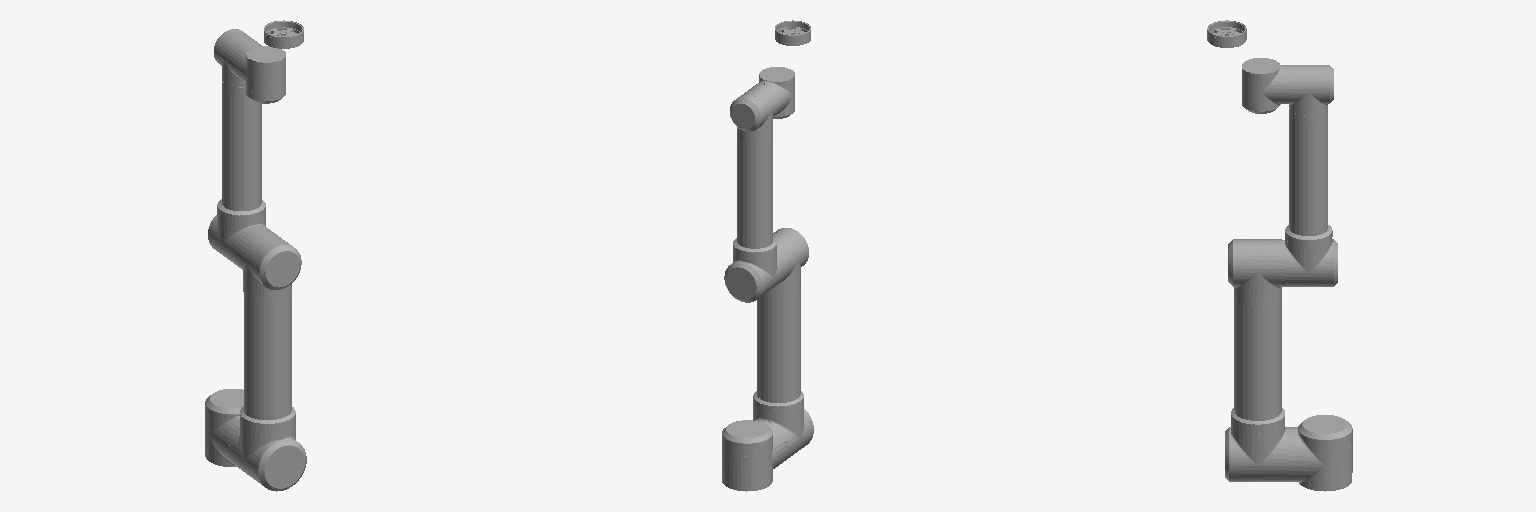
URDF robot description (utra6_1000):
<?xml version="1.0" encoding="utf-8"?>
<!-- =================================================================================== -->
<!-- |    This document was autogenerated by xacro from ../urdf/utra6_1000_robot.urdf.xacro | -->
<!-- |    EDITING THIS FILE BY HAND IS NOT RECOMMENDED                                 | -->
<!-- =================================================================================== -->
<robot name="utra6_1000">
  <!--
    Author: [author] <[email redacted]> <[email redacted]>
    Contributers:
  -->
  <link name="world"/>
  <joint name="world_joint" type="fixed">
    <parent link="world"/>
    <child link="base_link"/>
    <origin rpy="0 0 0" xyz="0 0 0"/>
  </joint>
  <material name="Black">
    <color rgba="0.0 0.0 0.0 1.0"/>
  </material>
  <material name="Red">
    <color rgba="0.8 0.0 0.0 1.0"/>
  </material>
  <material name="White">
    <color rgba="1.0 1.0 1.0 1.0"/>
  </material>
  <material name="Silver">
    <color rgba="0.7 0.7 0.7 1.0"/>
  </material>
  <link name="base_link">
    <inertial>
      <origin rpy="0 0 0" xyz="0 0 0"/>
      <mass value="1e-05"/>
      <inertia ixx="0" ixy="0" ixz="0" iyy="0" iyz="0" izz="0"/>
    </inertial>
    <visual>
      <origin rpy="0 0 0" xyz="0 0 0"/>
      <geometry>
        <mesh filename="package://utra_description/meshes/utra6_1000/visual/base.STL"/>
      </geometry>
      <material name="Silver"/>
    </visual>
    <collision>
      <origin rpy="0 0 0" xyz="0 0 0"/>
      <geometry>
        <mesh filename="package://utra_description/meshes/utra6_1000/visual/base.STL"/>
      </geometry>
    </collision>
  </link>
  <joint name="joint1" type="revolute">
    <origin rpy="0 0 0" xyz="0 0 0"/>
    <parent link="base_link"/>
    <child link="link_1"/>
    <axis xyz="0 0 1"/>
    <limit effort="0" lower="-6.28318530718" upper="6.28318530718" velocity="3.14"/>
    <dynamics damping="0" friction="0"/>
  </joint>
  <link name="link_1">
    <inertial>
      <origin rpy="0 0 0" xyz="0 0 0"/>
      <mass value="1e-05"/>
      <inertia ixx="0" ixy="0" ixz="0" iyy="0" iyz="0" izz="0"/>
    </inertial>
    <visual>
      <origin rpy="0 0 0" xyz="0 0 0"/>
      <geometry>
        <mesh filename="package://utra_description/meshes/utra6_1000/visual/link1.STL"/>
      </geometry>
      <material name="Silver"/>
    </visual>
    <collision>
      <origin rpy="0 0 0" xyz="0 0 0"/>
      <geometry>
        <mesh filename="package://utra_description/meshes/utra6_1000/visual/link1.STL"/>
      </geometry>
    </collision>
  </link>
  <joint name="joint2" type="revolute">
    <origin rpy="0 0 0" xyz="0 0 0.1175"/>
    <parent link="link_1"/>
    <child link="link_2"/>
    <axis xyz="0 -1 0"/>
    <limit effort="0" lower="-6.28318530718" upper="6.28318530718" velocity="3.14"/>
    <dynamics damping="0" friction="0"/>
  </joint>
  <link name="link_2">
    <inertial>
      <origin rpy="0 0 0" xyz="0 0 0"/>
      <mass value="1e-05"/>
      <inertia ixx="0" ixy="0" ixz="0" iyy="0" iyz="0" izz="0"/>
    </inertial>
    <visual>
      <origin rpy="0 0 0" xyz="0 0 0"/>
      <geometry>
        <mesh filename="package://utra_description/meshes/utra6_1000/visual/link2.STL"/>
      </geometry>
      <material name="Silver"/>
    </visual>
    <collision>
      <origin rpy="0 0 0" xyz="0 0 0"/>
      <geometry>
        <mesh filename="package://utra_description/meshes/utra6_1000/visual/link2.STL"/>
      </geometry>
    </collision>
  </link>
  <joint name="joint3" type="revolute">
    <origin rpy="0 0 0" xyz="0 0 0.463"/>
    <parent link="link_2"/>
    <child link="link_3"/>
    <axis xyz="0 1 0"/>
    <limit effort="0" lower="-6.28318530718" upper="6.28318530718" velocity="3.14"/>
    <dynamics damping="0" friction="0"/>
  </joint>
  <link name="link_3">
    <inertial>
      <origin rpy="0 0 0" xyz="0 0 0"/>
      <mass value="1e-05"/>
      <inertia ixx="0" ixy="0" ixz="0" iyy="0" iyz="0" izz="0"/>
    </inertial>
    <visual>
      <origin rpy="0 0 0" xyz="0 0 0"/>
      <geometry>
        <mesh filename="package://utra_description/meshes/utra6_1000/visual/link3.STL"/>
      </geometry>
      <material name="Silver"/>
    </visual>
    <collision>
      <origin rpy="0 0 0" xyz="0 0 0"/>
      <geometry>
        <mesh filename="package://utra_description/meshes/utra6_1000/visual/link3.STL"/>
      </geometry>
    </collision>
  </link>
  <joint name="joint4" type="revolute">
    <origin rpy="0 0 0" xyz="0 0 0.4325"/>
    <parent link="link_3"/>
    <child link="link_4"/>
    <axis xyz="0 -1 0"/>
    <limit effort="0" lower="-6.28318530718" upper="6.28318530718" velocity="3.14"/>
    <dynamics damping="0" friction="0"/>
  </joint>
  <link name="link_4">
    <inertial>
      <origin rpy="0 0 0" xyz="0 0 0"/>
      <mass value="1e-05"/>
      <inertia ixx="0" ixy="0" ixz="0" iyy="0" iyz="0" izz="0"/>
    </inertial>
    <visual>
      <origin rpy="0 0 0" xyz="0 0 0"/>
      <geometry>
        <mesh filename="package://utra_description/meshes/utra6_1000/visual/link4.STL"/>
      </geometry>
      <material name="Silver"/>
    </visual>
    <collision>
      <origin rpy="0 0 0" xyz="0 0 0"/>
      <geometry>
        <mesh filename="package://utra_description/meshes/utra6_1000/visual/link4.STL"/>
      </geometry>
    </collision>
  </link>
  <joint name="joint5" type="revolute">
    <origin rpy="0 0 0" xyz="0 -0.1405 0.1045"/>
    <parent link="link_4"/>
    <child link="link_5"/>
    <axis xyz="0 0 1"/>
    <limit effort="0" lower="-6.28318530718" upper="6.28318530718" velocity="3.14"/>
    <dynamics damping="0" friction="0"/>
  </joint>
  <link name="link_5">
    <inertial>
      <mass value="1e-05"/>
      <origin rpy="0 0 0" xyz="0 0 0"/>
      <inertia ixx="0" ixy="0" ixz="0" iyy="0" iyz="0" izz="0"/>
    </inertial>
    <visual>
      <origin rpy="0 0 0" xyz="0 0 0"/>
      <geometry>
        <mesh filename="package://utra_description/meshes/utra6_1000/visual/link5.STL"/>
      </geometry>
      <material name="Silver"/>
    </visual>
    <collision>
      <origin rpy="0 0 0" xyz="0 0 0"/>
      <geometry>
        <mesh filename="package://utra_description/meshes/utra6_1000/visual/link5.STL"/>
      </geometry>
    </collision>
  </link>
  <joint name="joint6" type="revolute">
    <origin rpy="1.57079632679 0 0" xyz="0 -0.0745 0"/>
    <parent link="link_5"/>
    <child link="link_6"/>
    <axis xyz="0 0 1"/>
    <limit effort="0" lower="-6.28318530718" upper="6.28318530718" velocity="3.14"/>
    <dynamics damping="0" friction="0"/>
  </joint>
  <link name="link_6">
    <inertial>
      <mass value="1e-05"/>
      <origin rpy="0 0 0" xyz="0 0 0"/>
      <inertia ixx="0" ixy="0" ixz="0" iyy="0" iyz="0" izz="0"/>
    </inertial>
    <visual>
      <origin rpy="0 0 0" xyz="0 0 0"/>
      <geometry>
        <mesh filename="package://utra_description/meshes/utra6_1000/visual/link6.STL"/>
      </geometry>
      <material name="Silver"/>
    </visual>
    <collision>
      <origin rpy="0 0 0" xyz="0 0 0"/>
      <geometry>
        <mesh filename="package://utra_description/meshes/utra6_1000/visual/link6.STL"/>
      </geometry>
    </collision>
  </link>
  <transmission name="tran1">
    <type>transmission_interface/SimpleTransmission</type>
    <joint name="joint1">
      <hardwareInterface>hardware_interface/PositionJointInterface</hardwareInterface>
    </joint>
    <actuator name="motor1">
      <hardwareInterface>hardware_interface/PositionJointInterface</hardwareInterface>
      <mechanicalReduction>1</mechanicalReduction>
    </actuator>
  </transmission>
  <transmission name="tran1">
    <type>transmission_interface/SimpleTransmission</type>
    <joint name="joint2">
      <hardwareInterface>hardware_interface/PositionJointInterface</hardwareInterface>
    </joint>
    <actuator name="motor1">
      <hardwareInterface>hardware_interface/PositionJointInterface</hardwareInterface>
      <mechanicalReduction>1</mechanicalReduction>
    </actuator>
  </transmission>
  <transmission name="tran1">
    <type>transmission_interface/SimpleTransmission</type>
    <joint name="joint3">
      <hardwareInterface>hardware_interface/PositionJointInterface</hardwareInterface>
    </joint>
    <actuator name="motor1">
      <hardwareInterface>hardware_interface/PositionJointInterface</hardwareInterface>
      <mechanicalReduction>1</mechanicalReduction>
    </actuator>
  </transmission>
  <transmission name="tran1">
    <type>transmission_interface/SimpleTransmission</type>
    <joint name="joint4">
      <hardwareInterface>hardware_interface/PositionJointInterface</hardwareInterface>
    </joint>
    <actuator name="motor1">
      <hardwareInterface>hardware_interface/PositionJointInterface</hardwareInterface>
      <mechanicalReduction>1</mechanicalReduction>
    </actuator>
  </transmission>
  <transmission name="tran1">
    <type>transmission_interface/SimpleTransmission</type>
    <joint name="joint5">
      <hardwareInterface>hardware_interface/PositionJointInterface</hardwareInterface>
    </joint>
    <actuator name="motor1">
      <hardwareInterface>hardware_interface/PositionJointInterface</hardwareInterface>
      <mechanicalReduction>1</mechanicalReduction>
    </actuator>
  </transmission>
  <transmission name="tran1">
    <type>transmission_interface/SimpleTransmission</type>
    <joint name="joint6">
      <hardwareInterface>hardware_interface/PositionJointInterface</hardwareInterface>
    </joint>
    <actuator name="motor1">
      <hardwareInterface>hardware_interface/PositionJointInterface</hardwareInterface>
      <mechanicalReduction>1</mechanicalReduction>
    </actuator>
  </transmission>
  <gazebo>
    <plugin filename="libgazebo_ros_control.so" name="gazebo_ros_control">
      <robotNamespace>/utra6_1000</robotNamespace>
      <robotSimType>gazebo_ros_control/DefaultRobotHWSim</robotSimType>
      <legacyModeNS>true</legacyModeNS>
    </plugin>
  </gazebo>
</robot>

--- Facts derived from the render (not from the file) ---
Views: 3 orthographic renders of the robot side by side, from view 1: azimuth 30°, elevation 25°; view 2: azimuth 150°, elevation 25°; view 3: azimuth 270°, elevation 25°.
Robot: utra6_1000 — 8 links, 7 joints (6 revolute, 1 fixed); root link world; default pose: all joints at 0.
Visible links, largest first — view 1: link_2, link_3, link_4, link_1, link_6; view 2: link_3, link_2, link_1, link_4, link_6; view 3: link_2, link_3, link_1, link_4, link_6.
Boxes of the visible links, <box> form: link_2: <box>229,226,306,491</box>; link_3: <box>208,29,266,267</box>; link_4: <box>235,44,285,103</box>; link_1: <box>205,389,243,466</box>; link_6: <box>264,20,303,48</box>; link_3: <box>724,84,785,302</box>; link_2: <box>753,228,813,460</box>; link_1: <box>722,420,787,491</box>; link_4: <box>753,67,794,118</box>; link_6: <box>775,20,810,45</box>; link_2: <box>1225,239,1285,481</box>; link_3: <box>1282,65,1337,286</box>; link_1: <box>1286,415,1352,491</box>; link_4: <box>1242,58,1288,113</box>; link_6: <box>1207,20,1246,47</box>.
Size in the robot's own frame: 0.12 by 0.3186 by 1.09 metres.
Meshes: 7 distinct files referenced, 5 mesh visuals loaded (5 binary STL); not drawn: 2 (reference not matched to a file when rendering).
